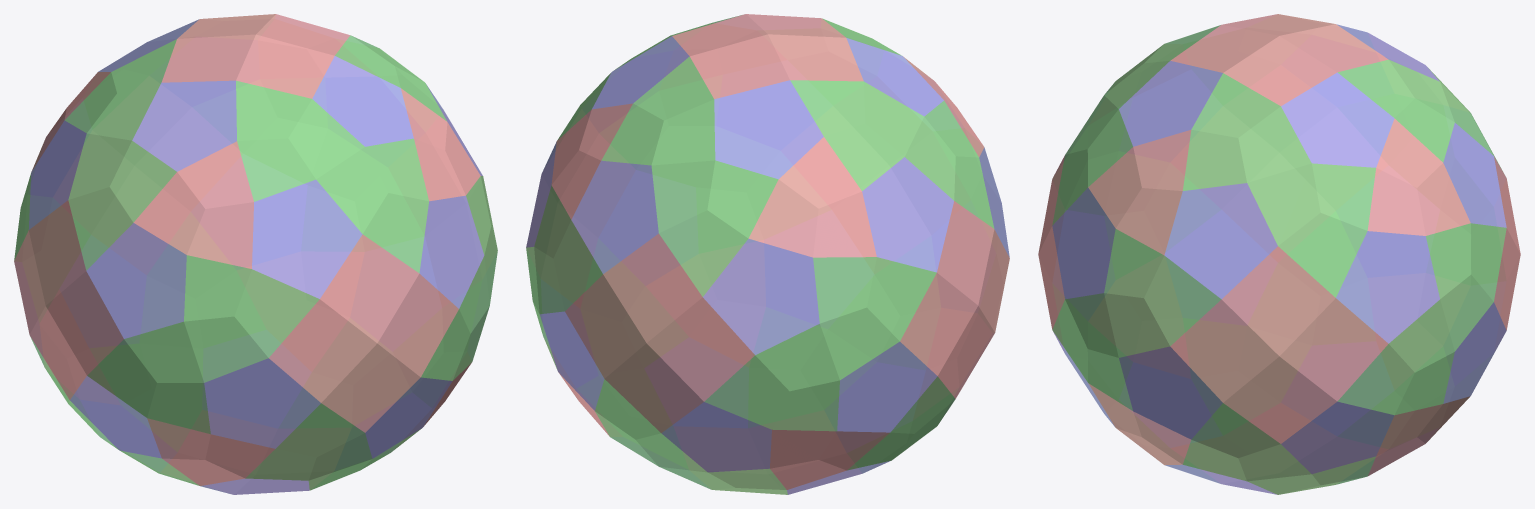
Rendered from PropellorPentagonalIcositetrahedron.obj.
3 views of the same model, side by side, from view 1: azimuth 30°, elevation 25°; view 2: azimuth 150°, elevation 25°; view 3: azimuth 270°, elevation 25° (orthographic).
Bounding box in the file's own units: 2.03 × 2.03 × 2.03.
